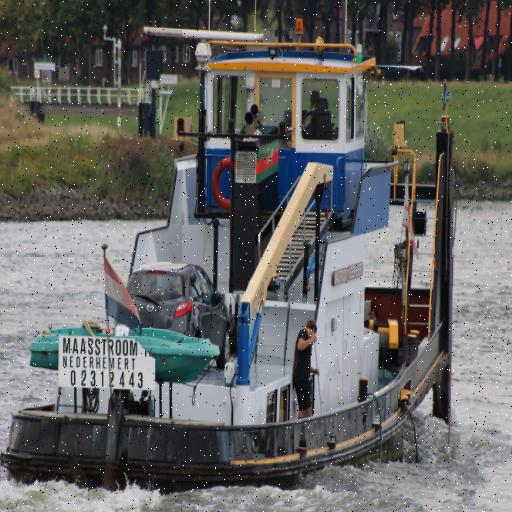tugboat: (1, 19, 463, 505)
